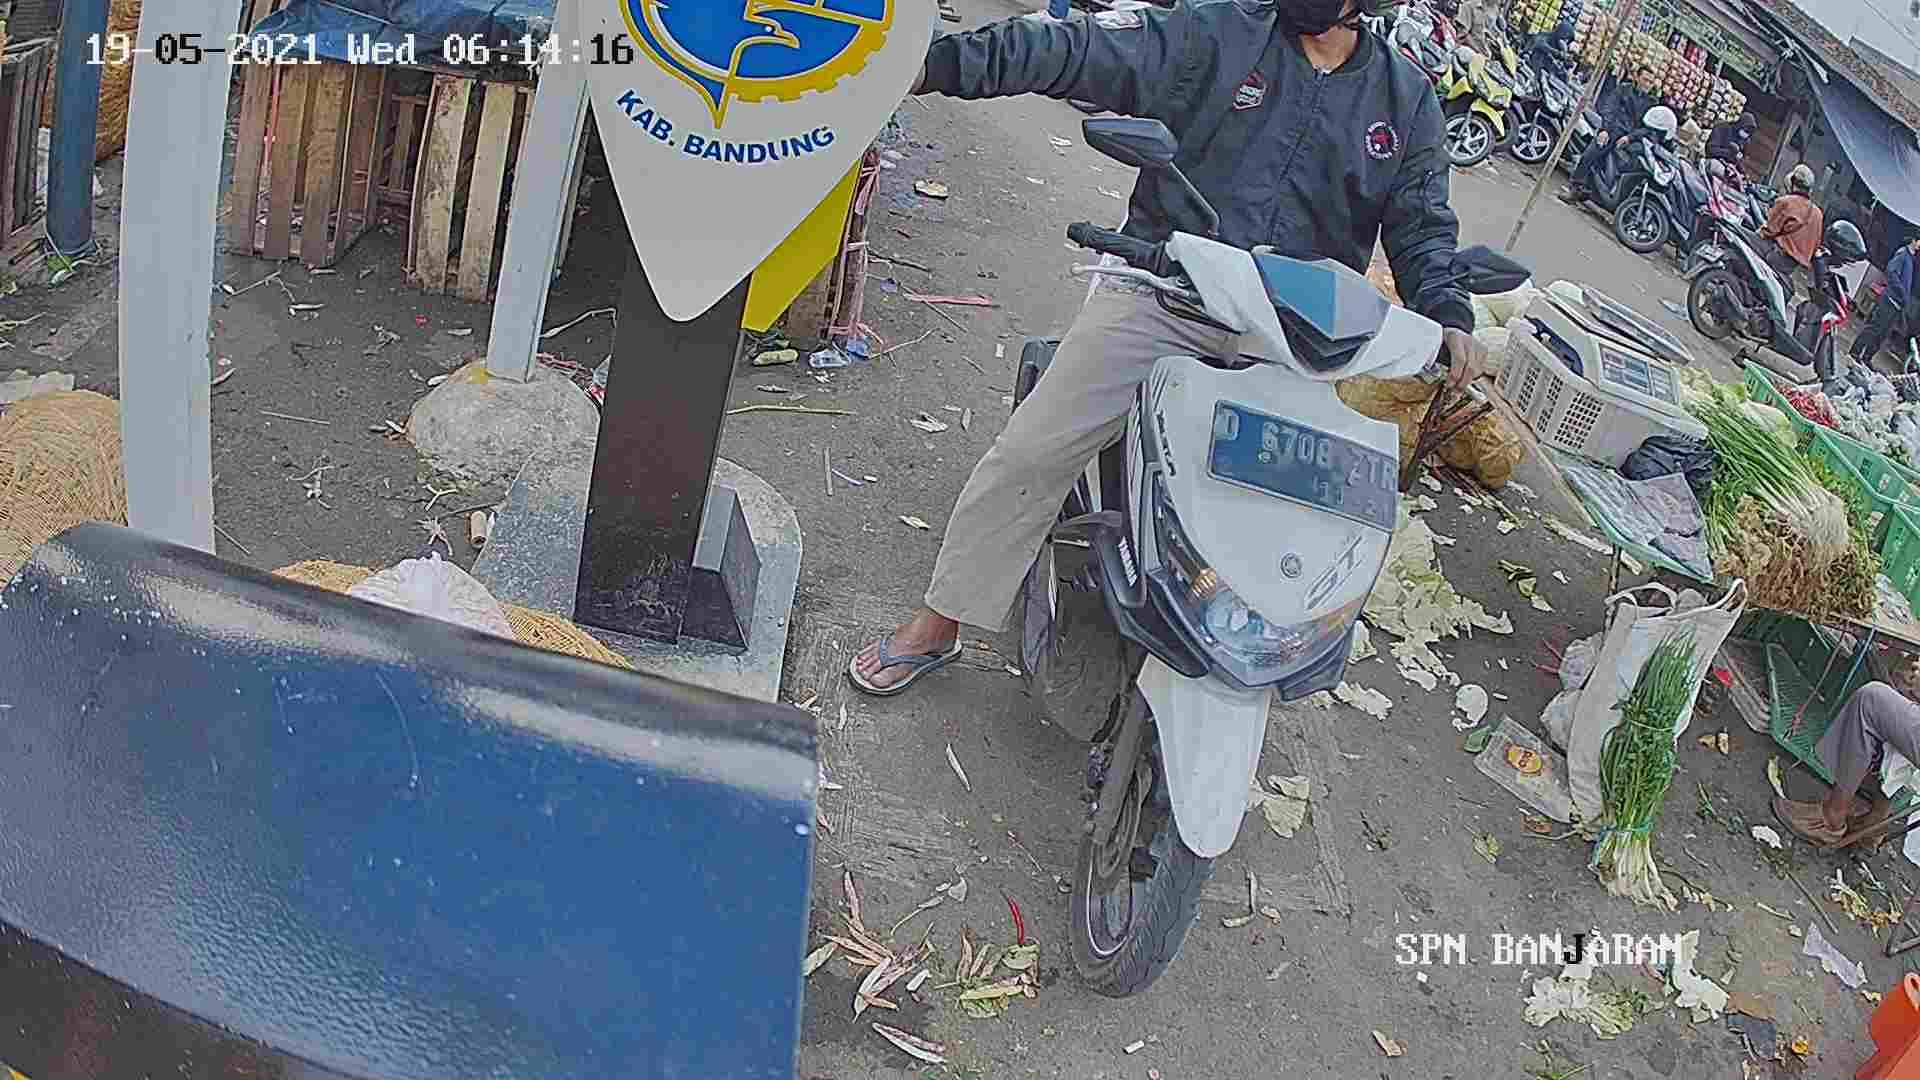motor: (989, 200, 1480, 994)
